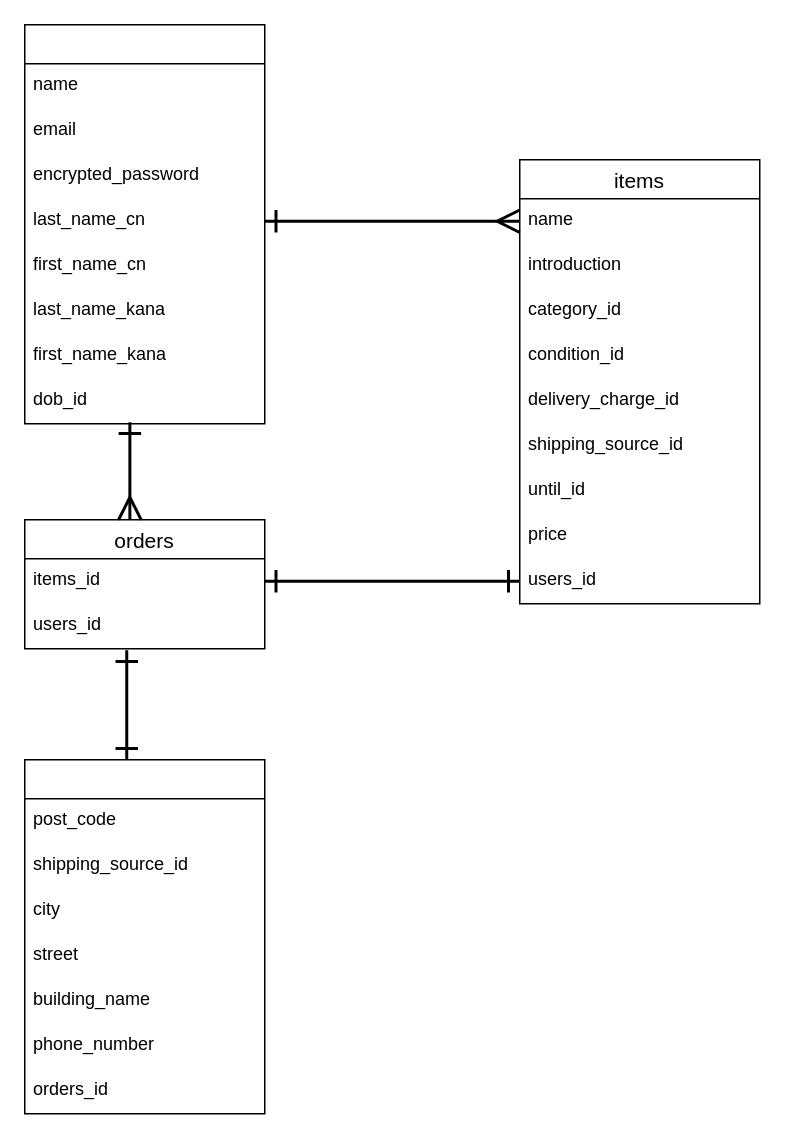
Image size: 785x1139. Some labels were removed from this diagram. Each missing label, with the box of its shape:
addresses: (23, 758, 265, 1114)
users: (23, 23, 265, 424)
